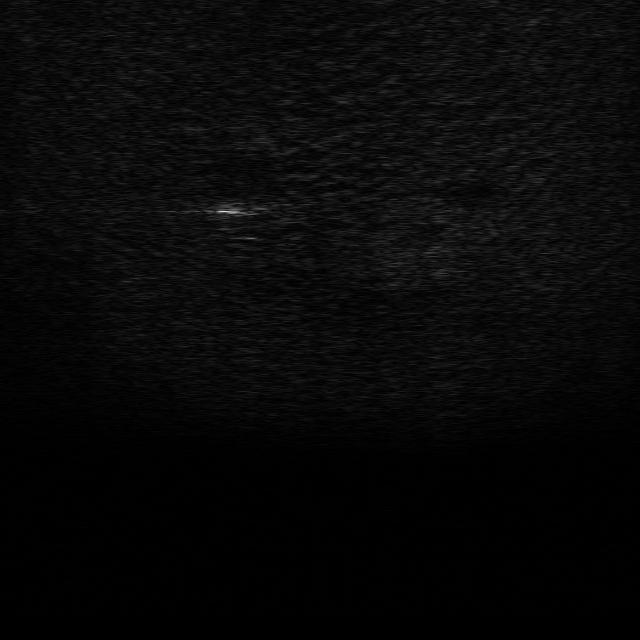plane: (205, 195, 291, 230)
